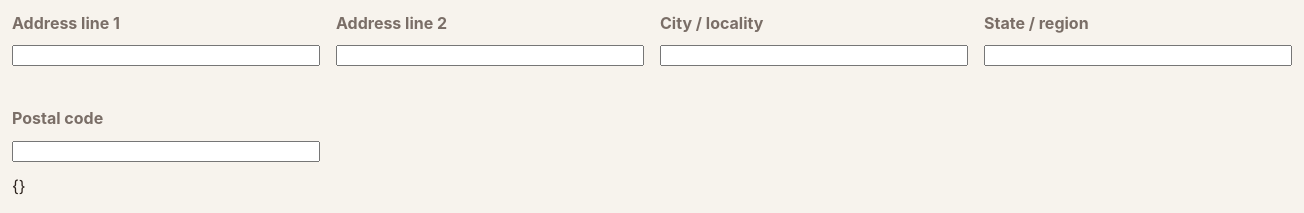
it: typed partial fields › defaults address country to the agency service country without asking staff
The image size is (1304, 213).
In the field labelled "Address line 1": (166, 56) [12,45,320,66], type "Fictional line"
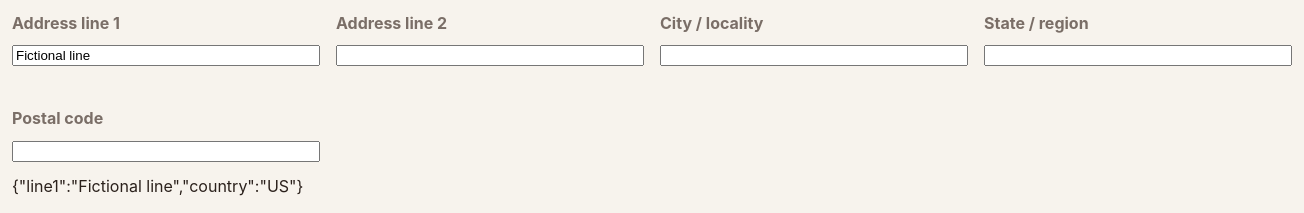
In the field labelled "Address line 2": (490, 56) [336,45,644,66], type "Fictional unit"
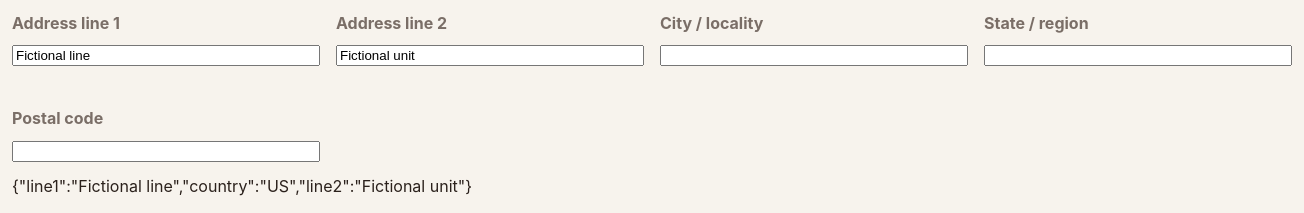
In the field labelled "City / locality": (814, 56) [660,45,968,66], type "Fictional locality"
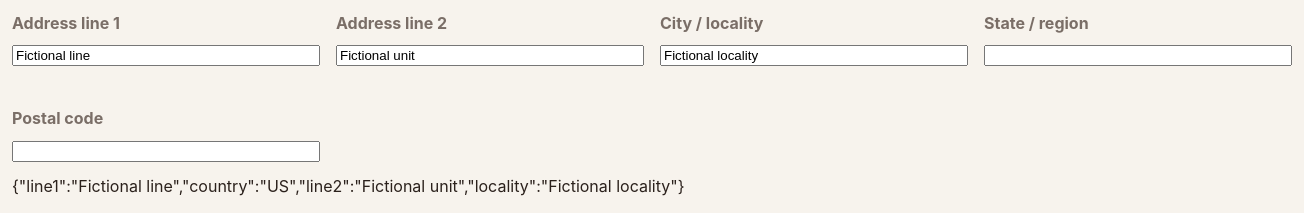
In the field labelled "State / region": (1138, 56) [984,45,1292,66], type "new york"
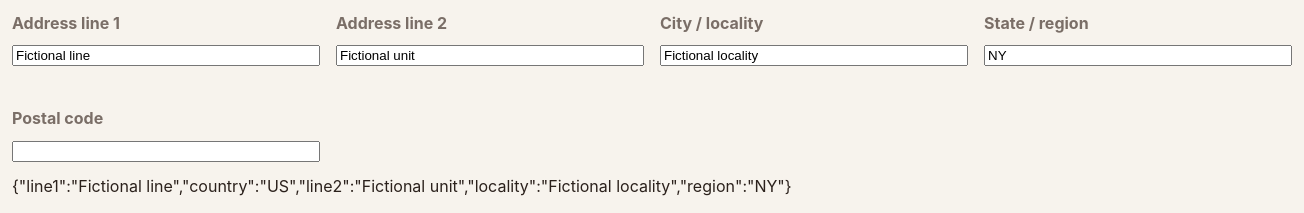
In the field labelled "Postal code": (166, 151) [12,141,320,162], type "100011234"
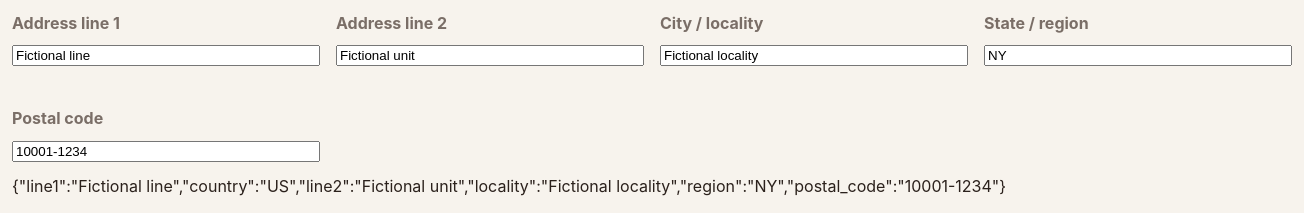
Expected: the text named "Captured fictional test values" shows "\"country\":\"US\"", [12,176,1006,196]
Expected: the text named "Captured fictional test values" shows "\"region\":\"NY\"", [12,176,1006,196]
Expected: the text named "Captured fictional test values" shows "\"postal_code\":\"10001-1234\"", [12,176,1006,196]
Clear the field labelled "Address line 2": (490, 56) [336,45,644,66]
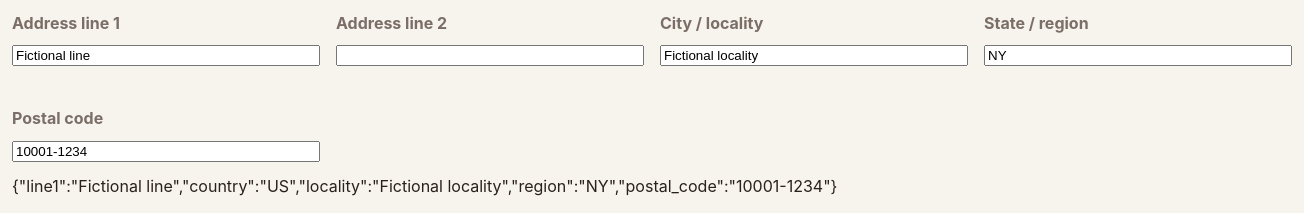
Expected: the text labelled "Captured fictional test values" no longer shows "line2"
